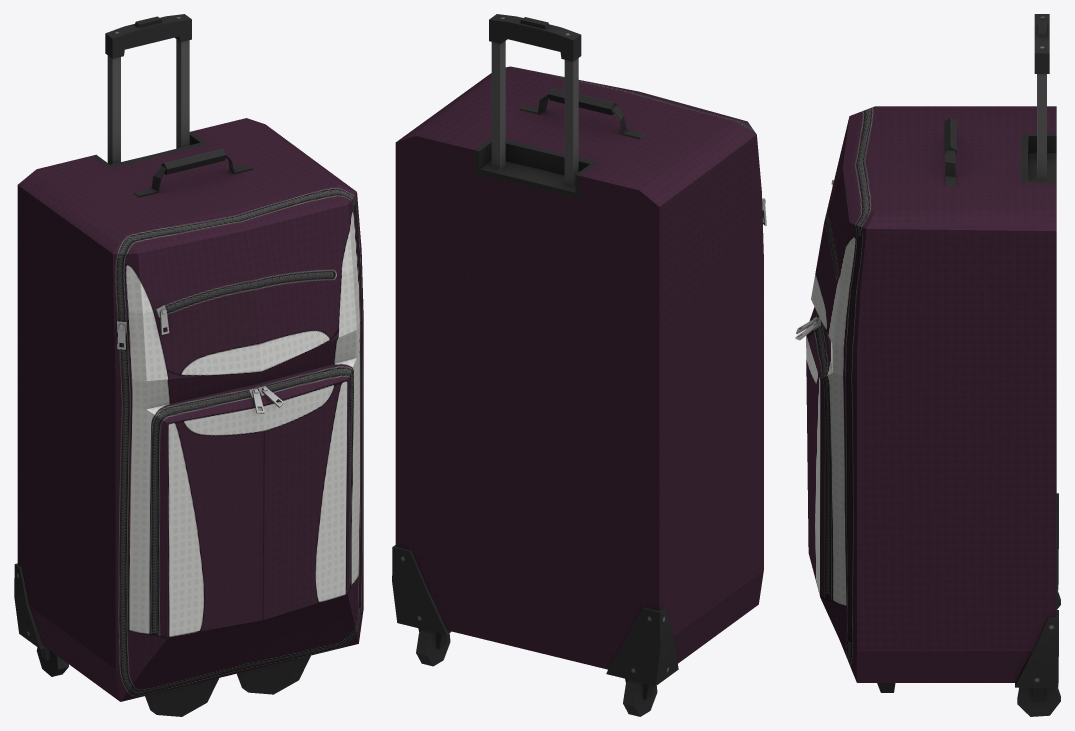
The model's file is airport-luggage-buckled-sand.glb.
3 views of the same model, side by side, from view 1: azimuth 30°, elevation 25°; view 2: azimuth 150°, elevation 25°; view 3: azimuth 270°, elevation 25° (orthographic). The views are drawn at different scales.
Parts seen in each view (by area): view 1: Luggage_mesh; view 2: Luggage_mesh; view 3: Luggage_mesh.
Boxes of the visible parts, bbox=[...] form: Luggage_mesh: bbox=[14, 14, 363, 716]; Luggage_mesh: bbox=[392, 14, 766, 716]; Luggage_mesh: bbox=[795, 14, 1060, 716].
Bounding box in the file's own units: 2.82 × 6.7 × 2.53.
Materials: 1 (1 with a texture image).
